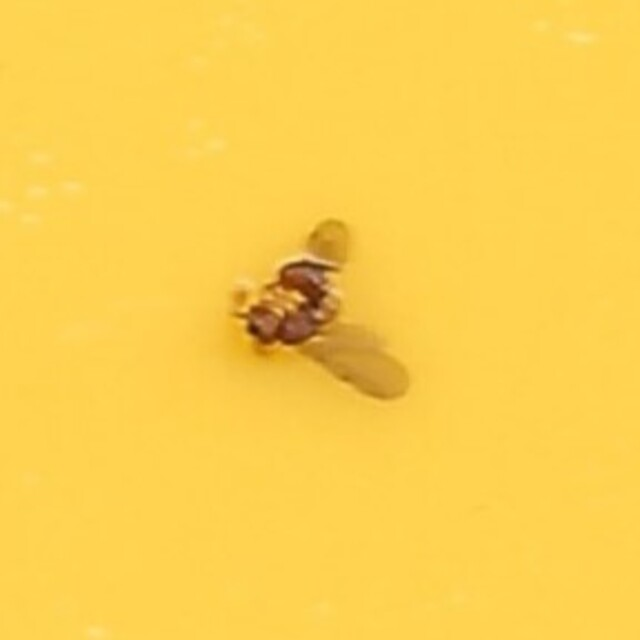Hymenoptera: (222, 220, 418, 420)
